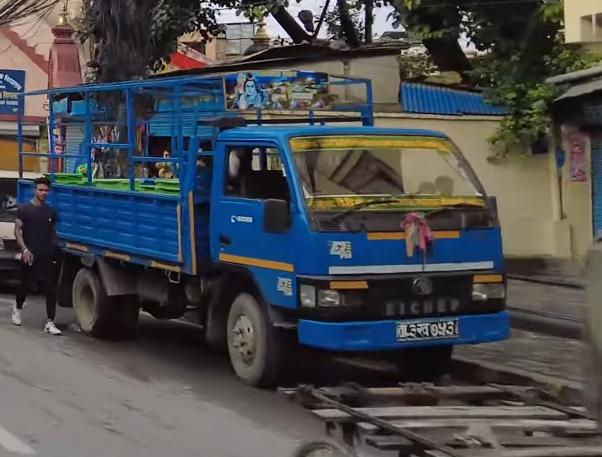mini_truck: (11, 69, 522, 395)
